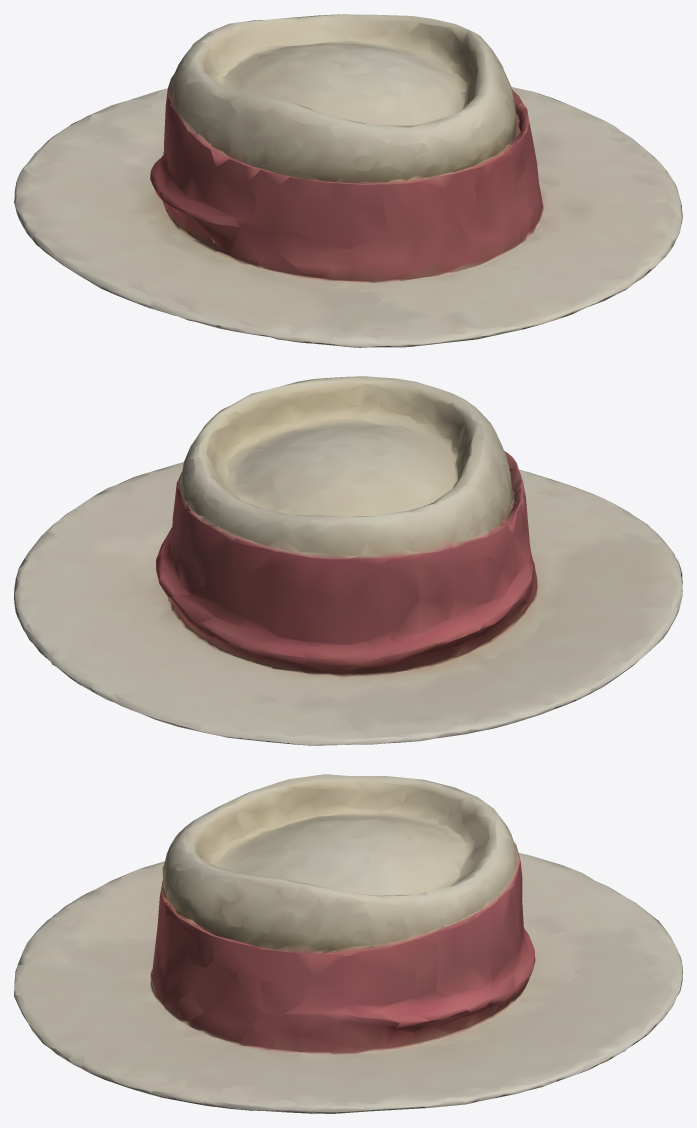
File: 0006_mask_007_straw_hat.glb
3 renders of one model, top to bottom at view 1: azimuth 30°, elevation 25°; view 2: azimuth 150°, elevation 25°; view 3: azimuth 270°, elevation 25°, orthographic. The views are drawn at different scales.
Parts seen in each view (by area): view 1: mask_007_object; view 2: mask_007_object; view 3: mask_007_object.
Boxes of the visible parts, box(x1,y1,x2,y2) form: mask_007_object: box(14, 14, 682, 347); mask_007_object: box(14, 376, 682, 745); mask_007_object: box(14, 774, 682, 1113).
Bounding box in the file's own units: 0.3472 × 0.0923 × 0.3593.
